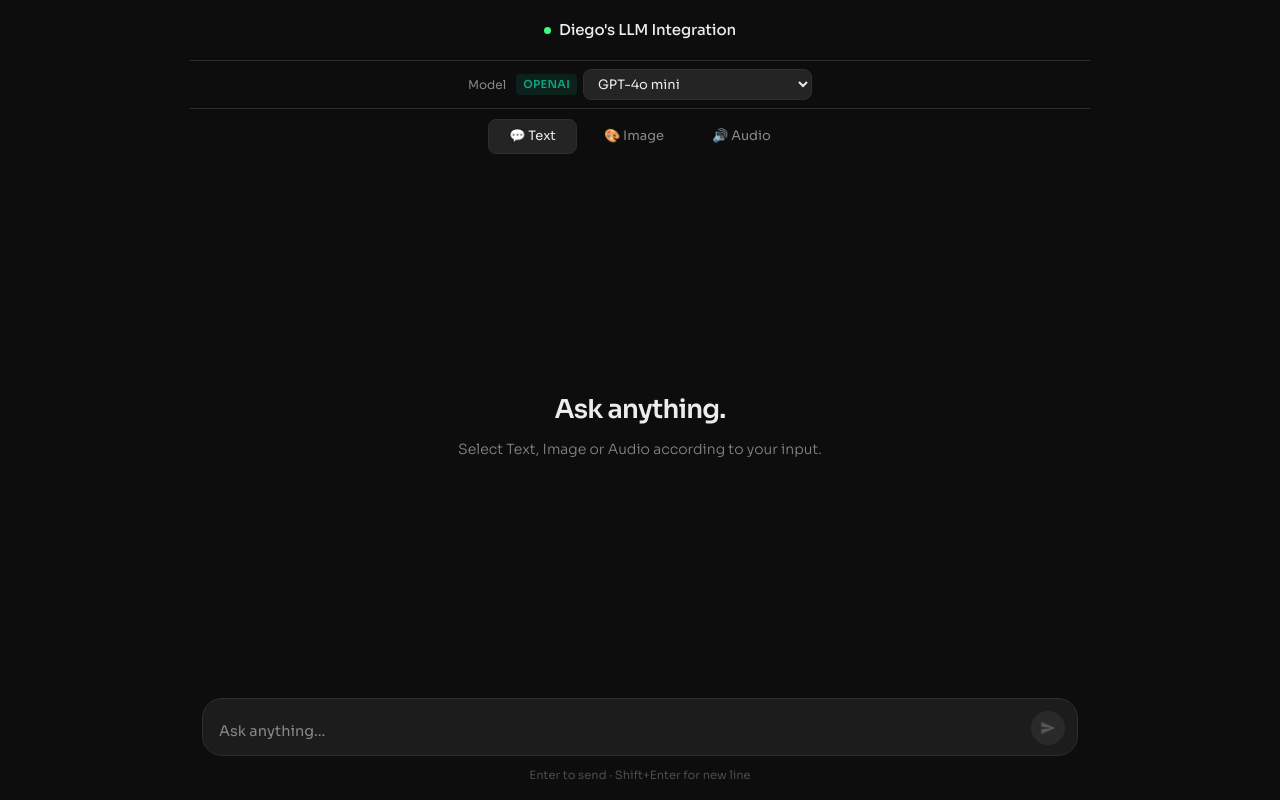
Test: Per-provider error boundary › unpacks a mid-stream provider error instead of rendering it as the AI reply
Type "Hello" into the text box with placeholder "Ask anything..." at (621, 733), box [219,721,1023,745]
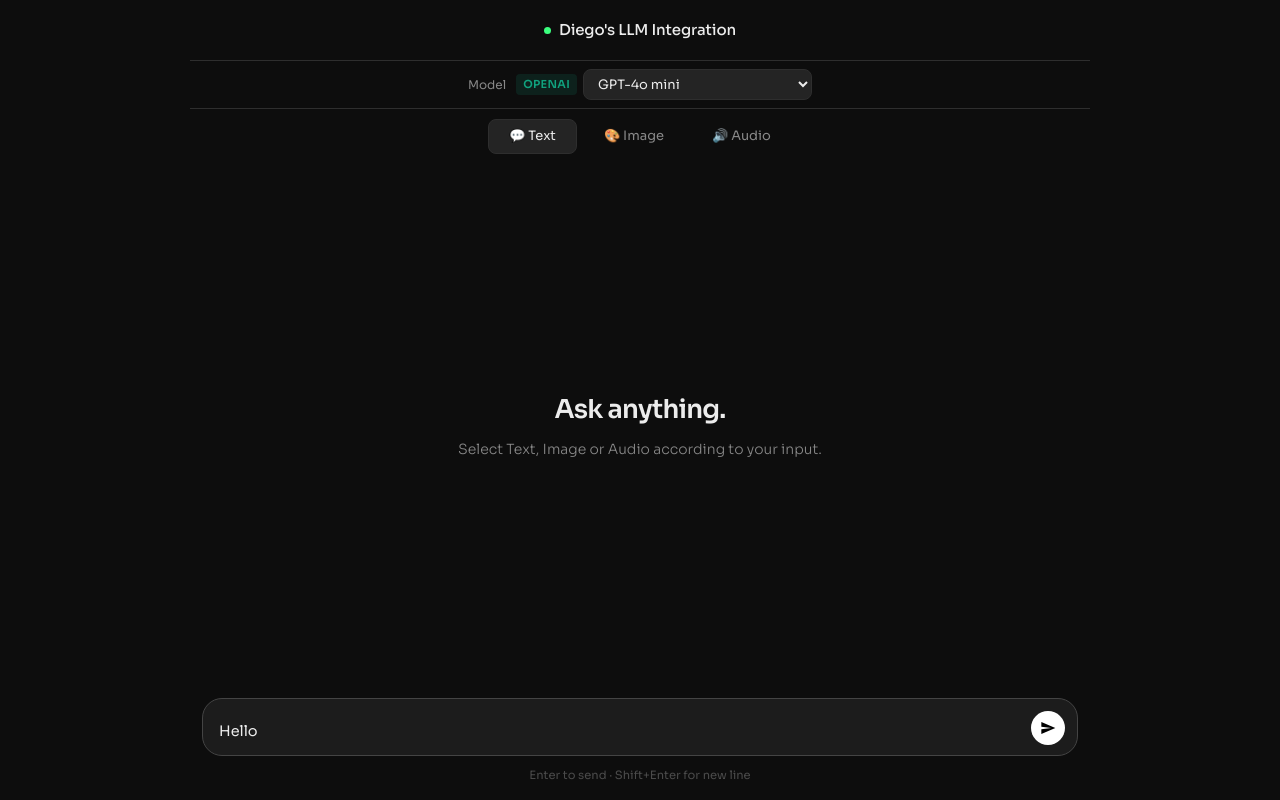
Click the button titled "Send" at (1048, 728), box [1031,711,1065,745]
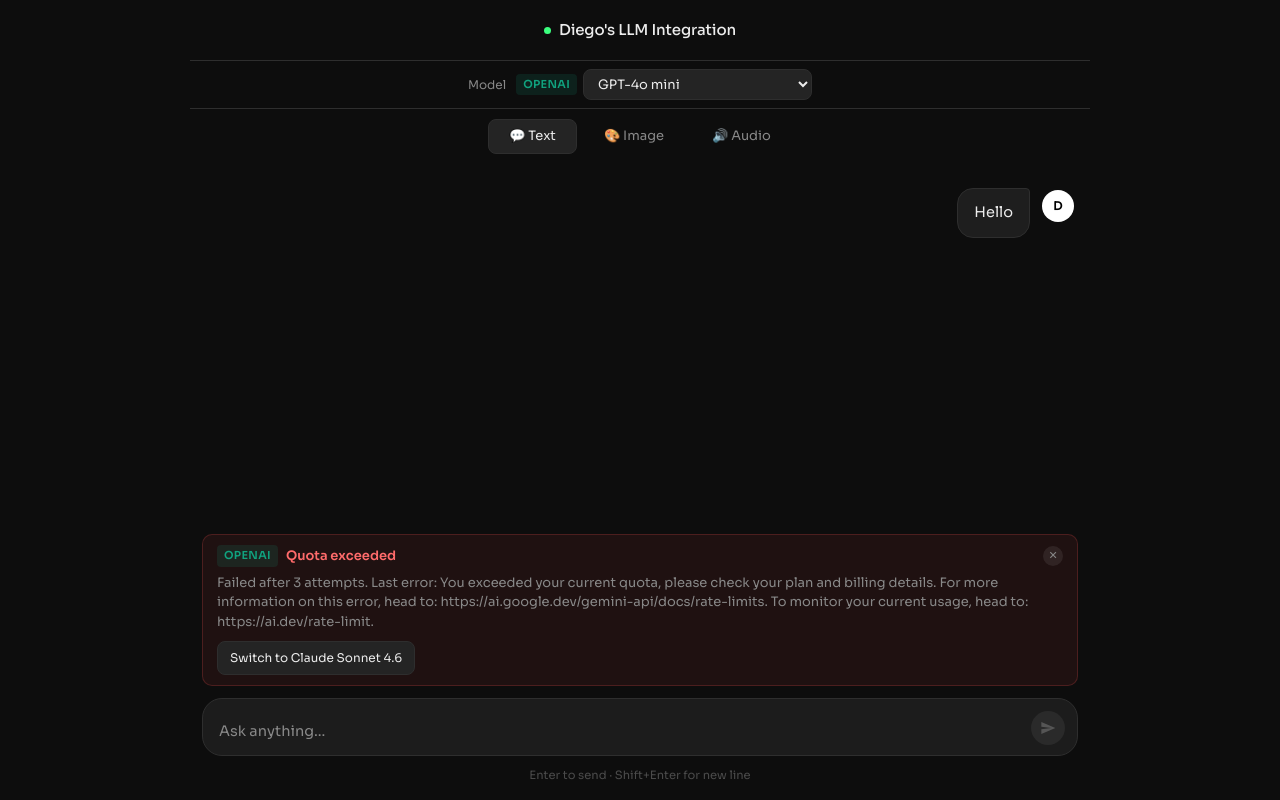
Expected: the text "Quota exceeded" is shown, [286,547,396,564]
